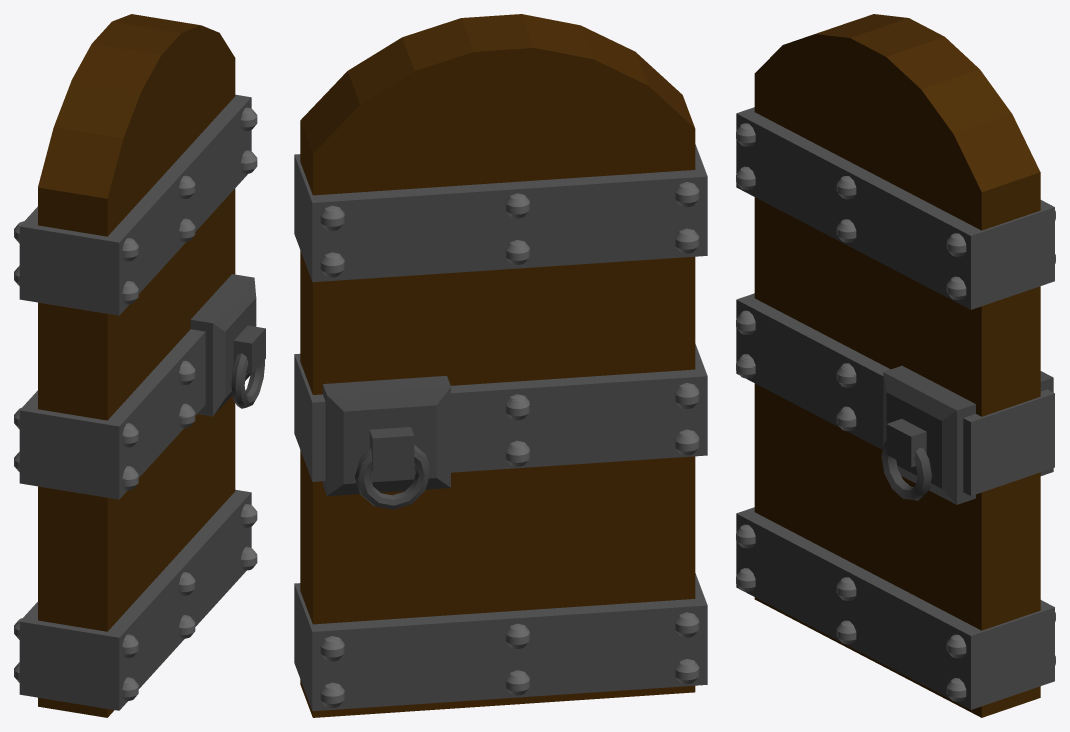
The model's file is puerta madera 01.fbx.
3 views of the same model, side by side, from view 1: azimuth 30°, elevation 25°; view 2: azimuth 150°, elevation 25°; view 3: azimuth 270°, elevation 25° (orthographic). The views are drawn at different scales.
Visible parts, largest first — view 1: puerta madera 01; view 2: puerta madera 01; view 3: puerta madera 01.
Boxes of the visible parts, bbox=[...] form: puerta madera 01: bbox=[14, 14, 265, 717]; puerta madera 01: bbox=[294, 14, 707, 717]; puerta madera 01: bbox=[736, 14, 1055, 717].
Size of the model in its own units: 260 by 490 by 232.
